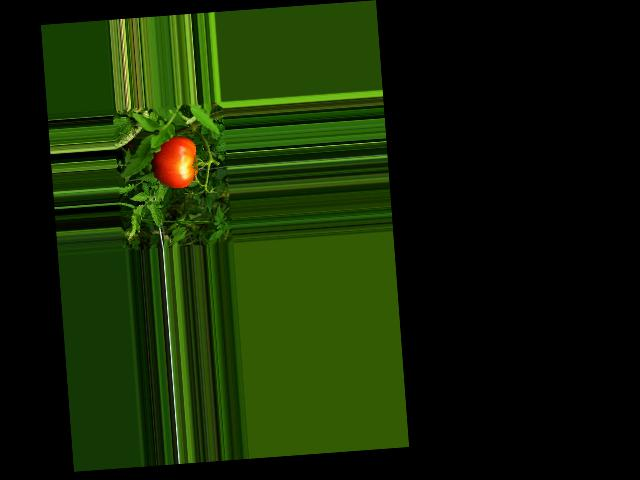tomato: (150, 135, 199, 189)
